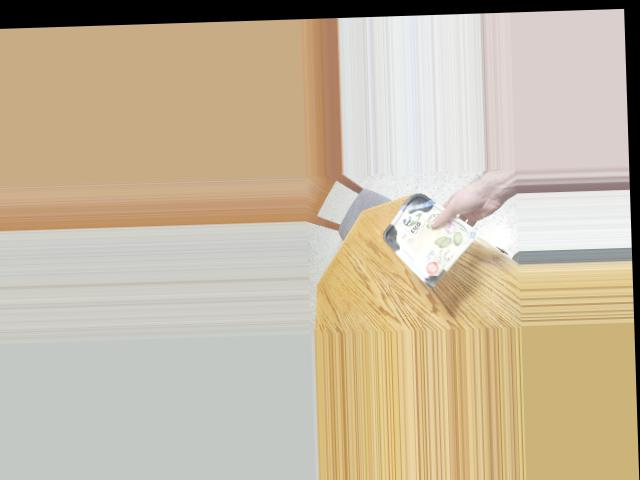cheese: (393, 197, 450, 279)
